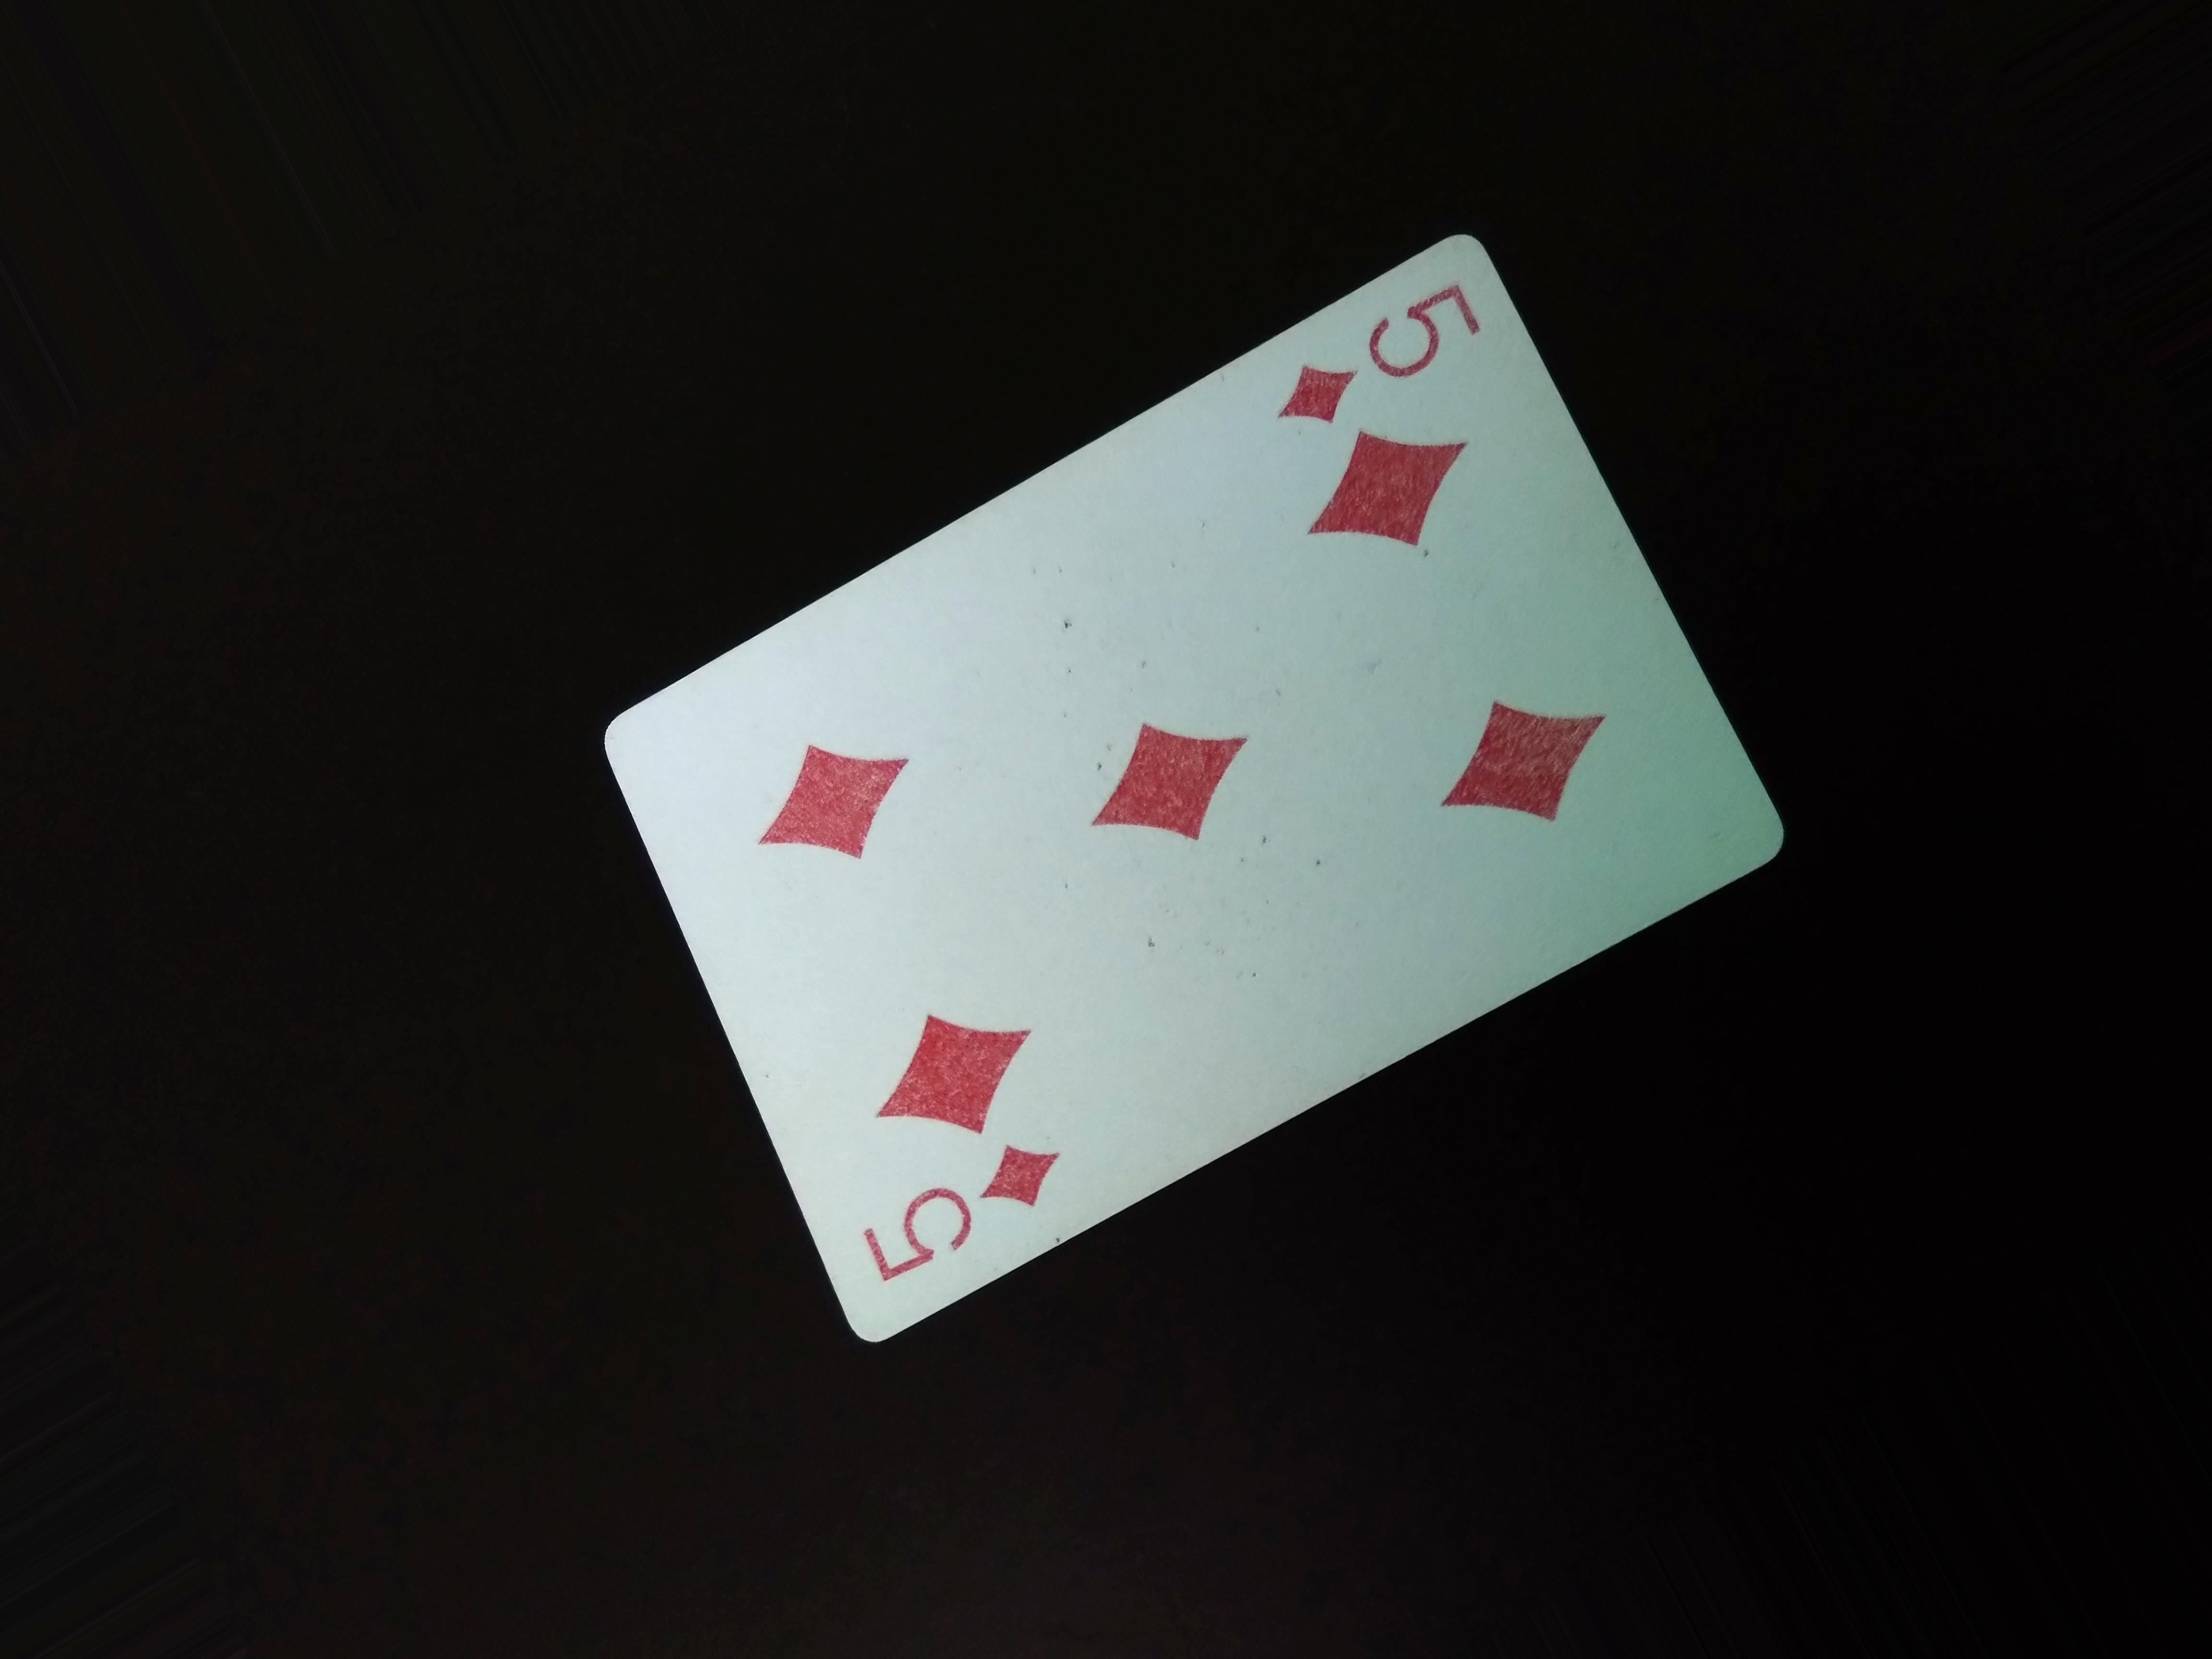5D: (1252, 272, 1475, 437)
